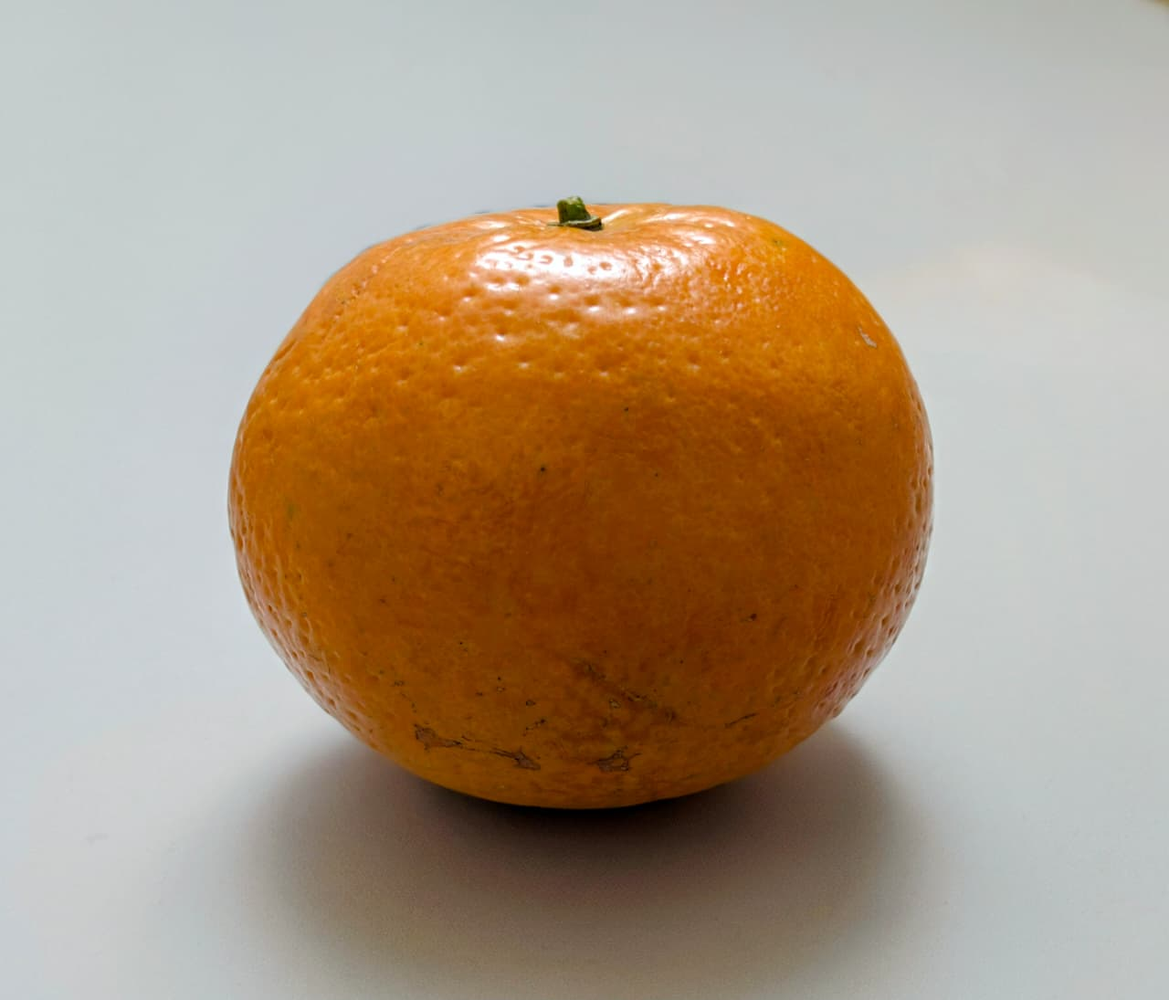orange: (37, 173, 966, 895)
